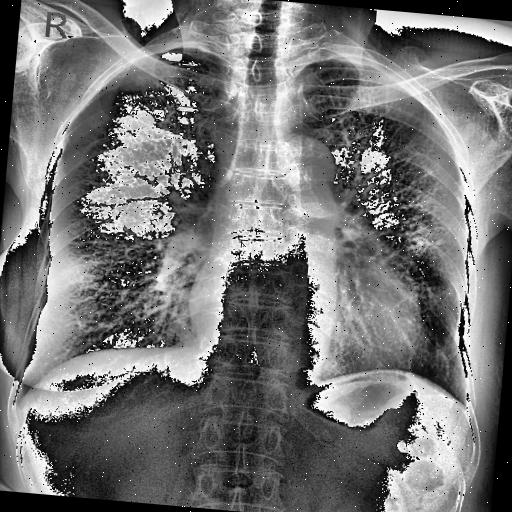0- Aortic enlargement: (258, 129, 338, 192), (274, 134, 338, 189)
13- Pulmonary fibrosis: (126, 67, 148, 85)
3- Cardiomegaly: (178, 278, 428, 394), (184, 272, 436, 376)
6- Infiltration: (354, 226, 436, 346), (126, 67, 148, 85)
7- Lung Opacity: (354, 226, 436, 346)
9- Other lesion: (354, 226, 436, 346), (126, 67, 148, 85)
